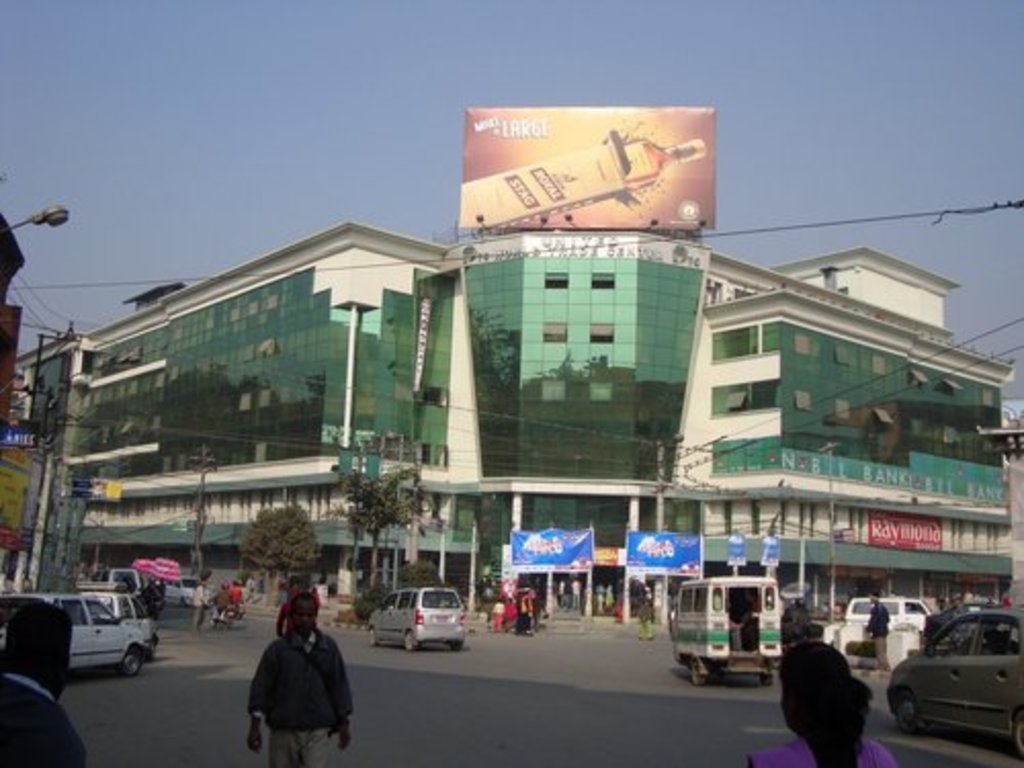Car: (888, 608, 1021, 765), (0, 593, 153, 675), (370, 583, 468, 649), (165, 571, 204, 602)
